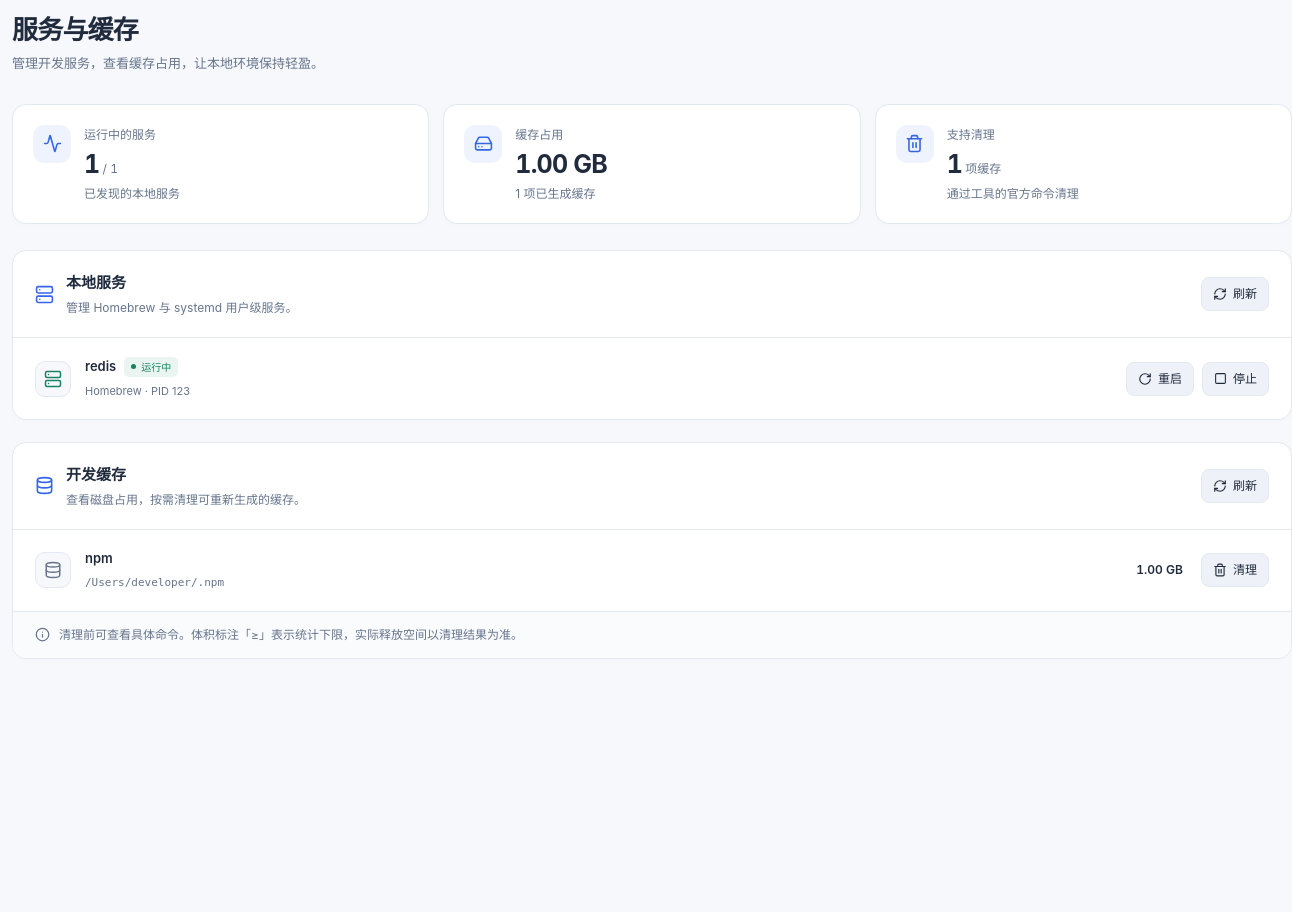
服务操作失败保留原状态与可重试按钮，成功后刷新服务列表
The image size is (1292, 912).
Click the button with aria-label "停止 redis" at (1236,379), box [1202,362,1269,396]
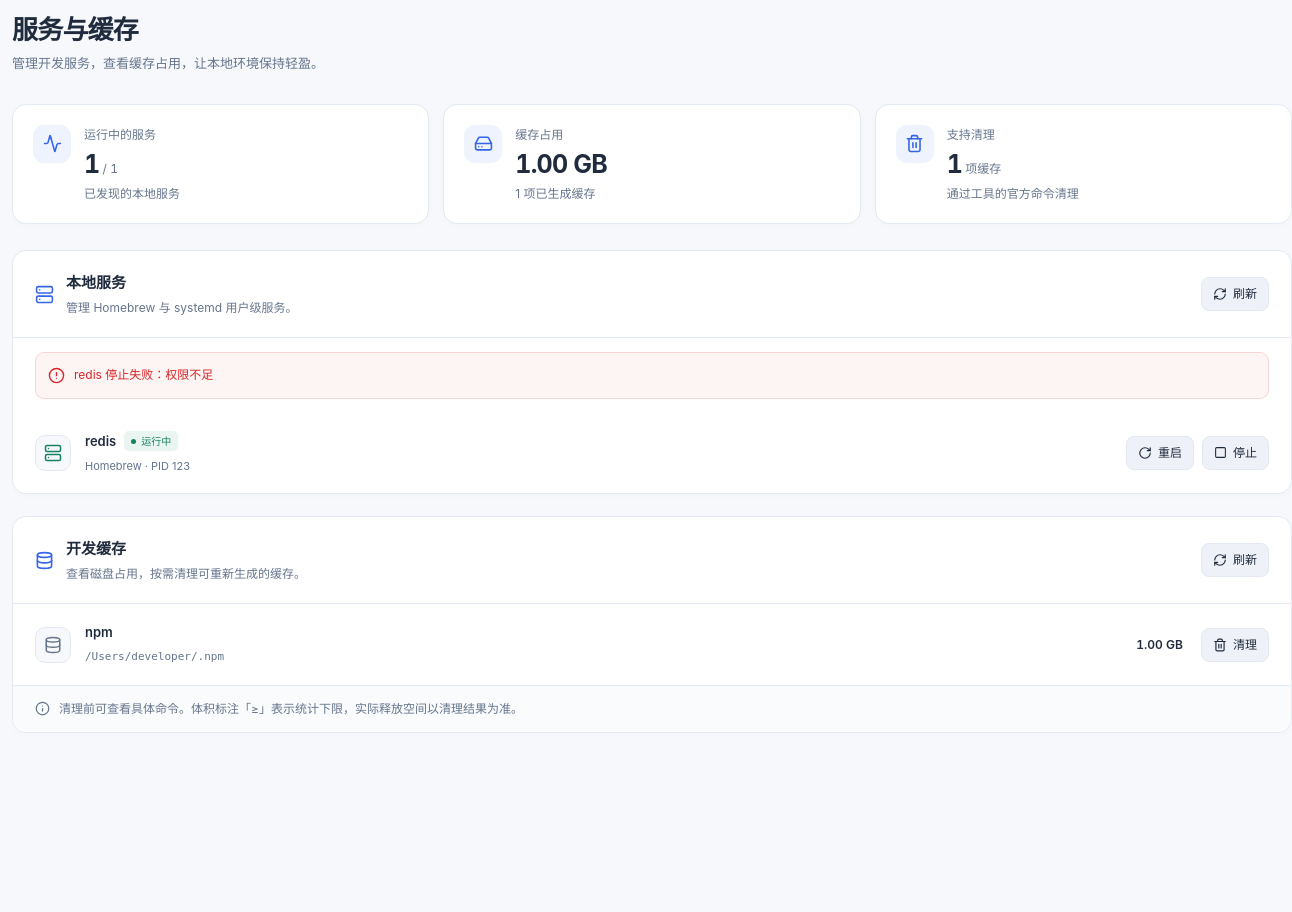
Expected: the text "运行中" is shown, [124,431,178,451]
Expected: the button with aria-label "清理 npm 缓存" is enabled, [1201,628,1269,662]
Click the button with aria-label "停止 redis" at (1236,453), box [1202,436,1269,470]
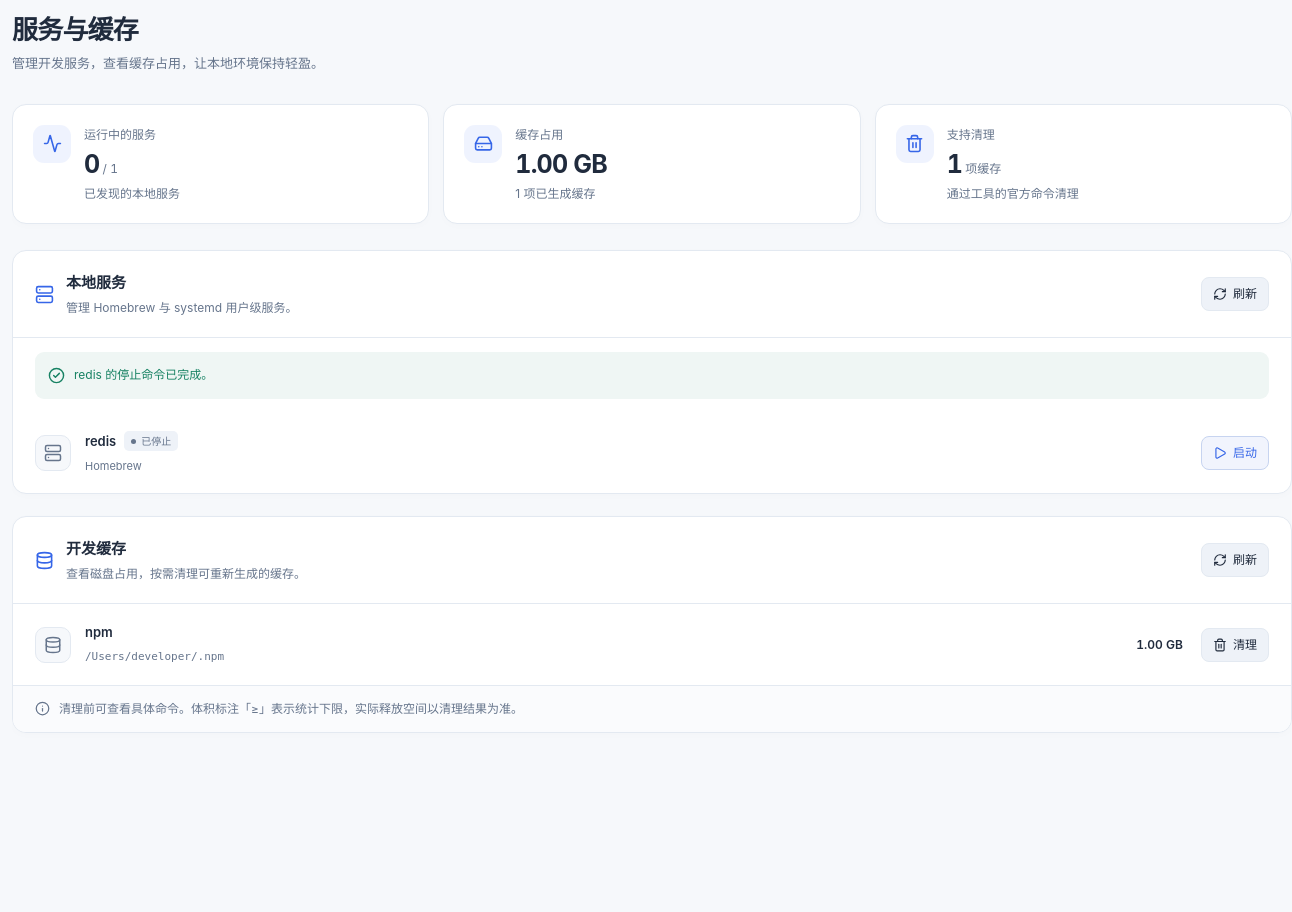
Result: the button with aria-label "启动 redis" is shown at [1201,436,1269,470]
